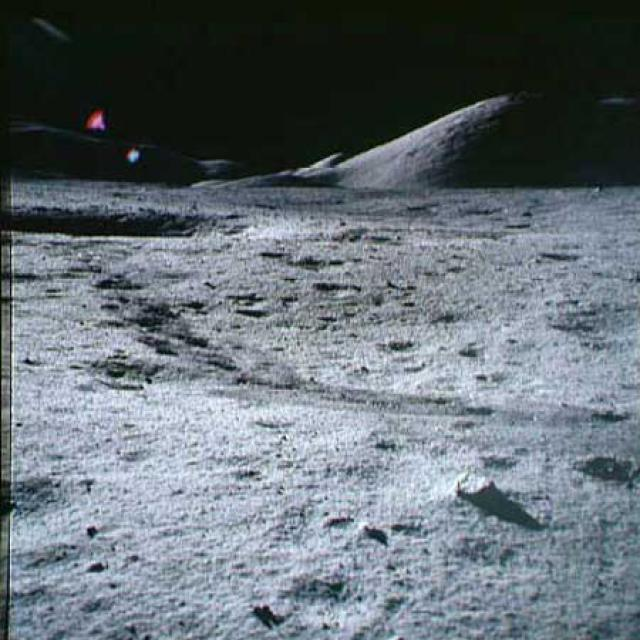crater: (0, 199, 205, 237), (317, 280, 358, 296)
rock: (574, 446, 634, 480), (457, 471, 497, 499)
